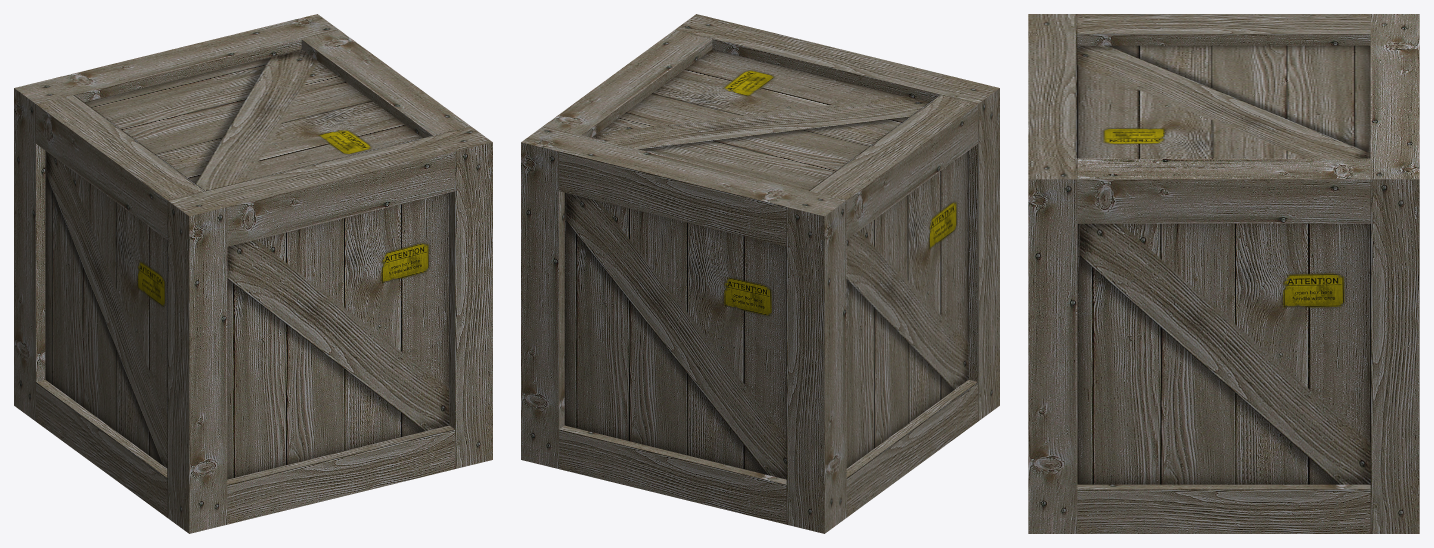
File: woodb3.fbx
The picture shows the model from 3 angles, left to right: view 1: azimuth 30°, elevation 25°; view 2: azimuth 150°, elevation 25°; view 3: azimuth 270°, elevation 25°; orthographic projection. The views are drawn at different scales.
Parts seen in each view (by area): view 1: woodb3_Layer1; view 2: woodb3_Layer1; view 3: woodb3_Layer1.
Boxes of the visible parts, box(x1,y1,x2,y2) form: woodb3_Layer1: box(14, 14, 492, 533); woodb3_Layer1: box(521, 14, 999, 533); woodb3_Layer1: box(1028, 14, 1419, 533).
Bounding box in the file's own units: 64 × 64 × 64.
Materials: 1 (1 with a texture image).
